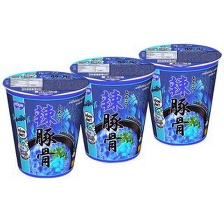paper_cup: (0, 64, 93, 182), (65, 51, 157, 165), (134, 38, 223, 149)
